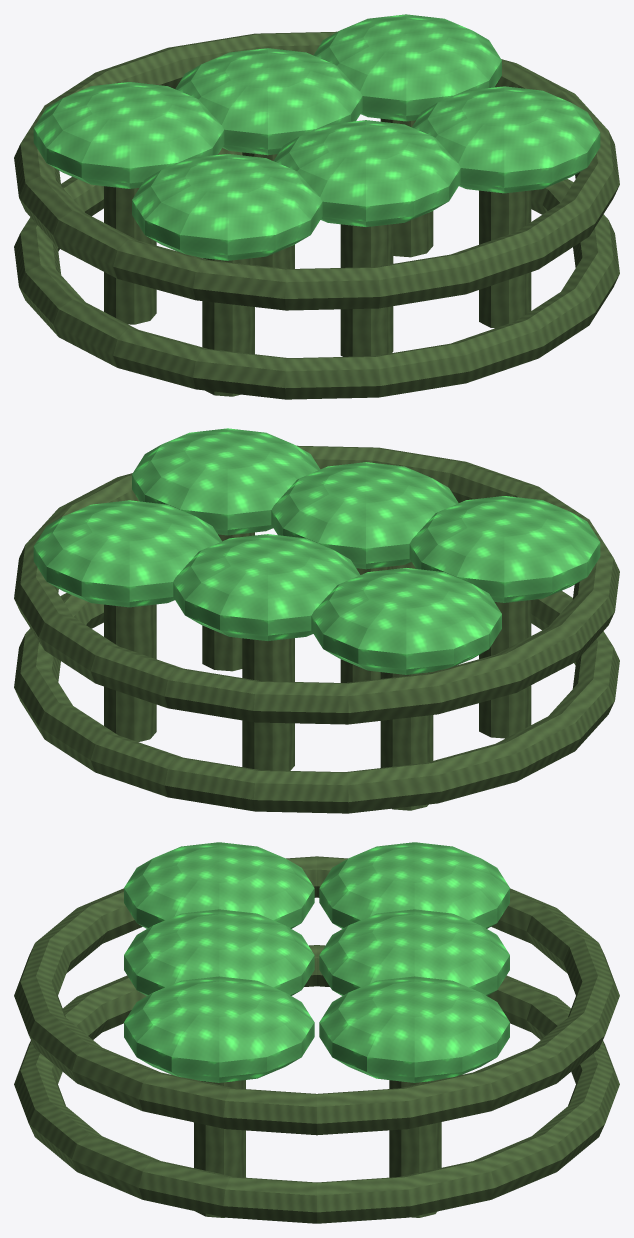
The model's file is underworld-refined-cured-glowcap.glb.
3 views of the same model, one above another, from view 1: azimuth 30°, elevation 25°; view 2: azimuth 150°, elevation 25°; view 3: azimuth 270°, elevation 25° (orthographic).
Parts seen in each view (by area): view 1: bundle-tie-1, bundle-tie-0, dried-cap-0, dried-cap-3, dried-cap-2, dried-cap-1, dried-cap-5, dried-cap-4, dried-stem-1, dried-stem-2, dried-stem-3, dried-stem-0 (+2 smaller); view 2: bundle-tie-1, bundle-tie-0, dried-cap-3, dried-cap-0, dried-cap-5, dried-cap-4, dried-cap-2, dried-cap-1, dried-stem-4, dried-stem-5, dried-stem-0, dried-stem-3 (+2 smaller); view 3: bundle-tie-1, bundle-tie-0, dried-cap-2, dried-cap-5, dried-cap-0, dried-cap-1, dried-cap-3, dried-cap-4, dried-stem-5, dried-stem-2.
Part boxes in pixels (x1,y1,x2,y2): bundle-tie-1: (14,31,619,310); bundle-tie-0: (14,148,619,399); dried-cap-0: (132,154,322,260); dried-cap-3: (33,82,224,188); dried-cap-2: (412,86,600,193); dried-cap-1: (273,120,460,226); dried-cap-5: (313,14,501,121); dried-cap-4: (175,48,362,155); dried-stem-1: (340,224,393,356); dried-stem-2: (479,190,531,328); dried-stem-3: (104,186,156,324); dried-stem-0: (202,258,254,396); bundle-tie-1: (14,445,619,724); bundle-tie-0: (14,562,619,813); dried-cap-3: (311,568,501,674); dried-cap-0: (409,496,600,602); dried-cap-5: (33,500,221,607); dried-cap-4: (173,534,360,640); dried-cap-2: (132,428,320,535); dried-cap-1: (271,462,458,569); dried-stem-4: (242,638,294,770); dried-stem-5: (104,604,156,741); dried-stem-0: (479,600,531,738); dried-stem-3: (380,672,433,810); bundle-tie-1: (14,856,619,1135); bundle-tie-0: (14,945,619,1223); dried-cap-2: (124,976,314,1082); dried-cap-5: (319,976,509,1082); dried-cap-0: (124,842,314,928); dried-cap-1: (124,909,314,995); dried-cap-3: (319,842,509,928); dried-cap-4: (319,909,509,995); dried-stem-5: (389,1080,441,1217); dried-stem-2: (194,1080,245,1217).
Bounding box in the file's own units: 0.248 × 0.0952 × 0.248.
2 materials, 2 textured.
